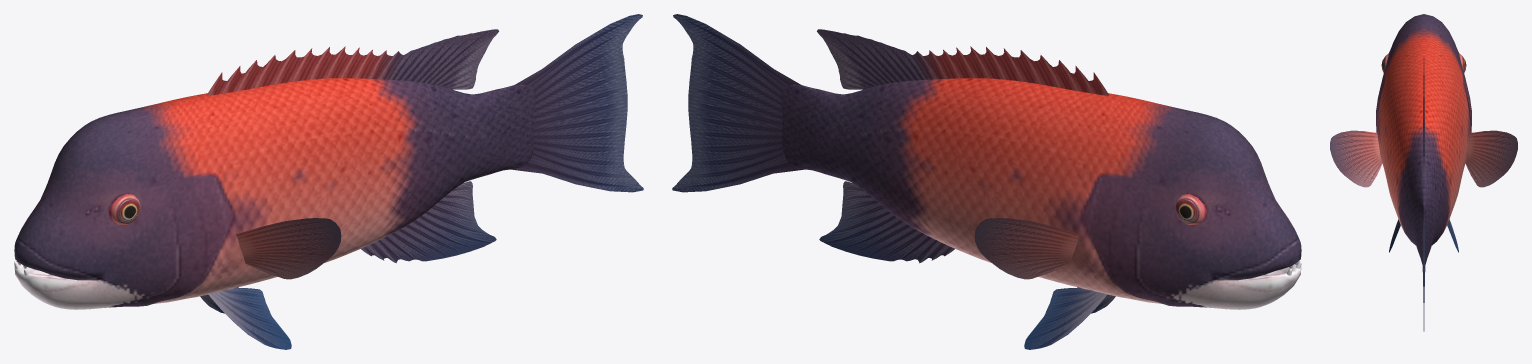
The model's file is Sheephead0.fbx.
3 views of the same model, side by side, from view 1: azimuth 30°, elevation 25°; view 2: azimuth 150°, elevation 25°; view 3: azimuth 270°, elevation 25° (orthographic). The views are drawn at different scales.
Parts seen in each view (by area): view 1: $$$DUMMY.BODY01L, $$$DUMMY.TAIL01L, $$$DUMMY.BACK01L, $$$DUMMY.HIP01L, $$$DUMMY.BUST01L, $$$DUMMY.WAIST01L, $$$DUMMY.EYE01L; view 2: $$$DUMMY.BODY01L, $$$DUMMY.TAIL01L, $$$DUMMY.BACK01L, $$$DUMMY.HIP01L, $$$DUMMY.BUST01R, $$$DUMMY.WAIST01R, $$$DUMMY.EYE01R; view 3: $$$DUMMY.BODY01L, $$$DUMMY.BUST01L, $$$DUMMY.BUST01R, $$$DUMMY.TAIL01L, $$$DUMMY.BACK01L.
Boxes of the visible parts, x1,y1,x2,y2 form: $$$DUMMY.BODY01L: [14, 78, 534, 309]; $$$DUMMY.TAIL01L: [510, 14, 643, 192]; $$$DUMMY.BACK01L: [207, 29, 498, 95]; $$$DUMMY.HIP01L: [361, 181, 496, 263]; $$$DUMMY.BUST01L: [236, 218, 341, 279]; $$$DUMMY.WAIST01L: [208, 288, 291, 349]; $$$DUMMY.EYE01L: [109, 194, 140, 224]; $$$DUMMY.BODY01L: [781, 78, 1301, 309]; $$$DUMMY.TAIL01L: [672, 14, 805, 192]; $$$DUMMY.BACK01L: [817, 29, 1108, 95]; $$$DUMMY.HIP01L: [819, 181, 954, 263]; $$$DUMMY.BUST01R: [974, 218, 1079, 279]; $$$DUMMY.WAIST01R: [1024, 288, 1107, 349]; $$$DUMMY.EYE01R: [1175, 194, 1206, 224]; $$$DUMMY.BODY01L: [1376, 14, 1471, 264]; $$$DUMMY.BUST01L: [1330, 130, 1382, 187]; $$$DUMMY.BUST01R: [1465, 130, 1517, 187]; $$$DUMMY.TAIL01L: [1422, 208, 1425, 331]; $$$DUMMY.BACK01L: [1423, 57, 1424, 177].
Bounding box in the file's own units: 1.01 × 0.425 × 0.3662.
1 material, 1 textured.
